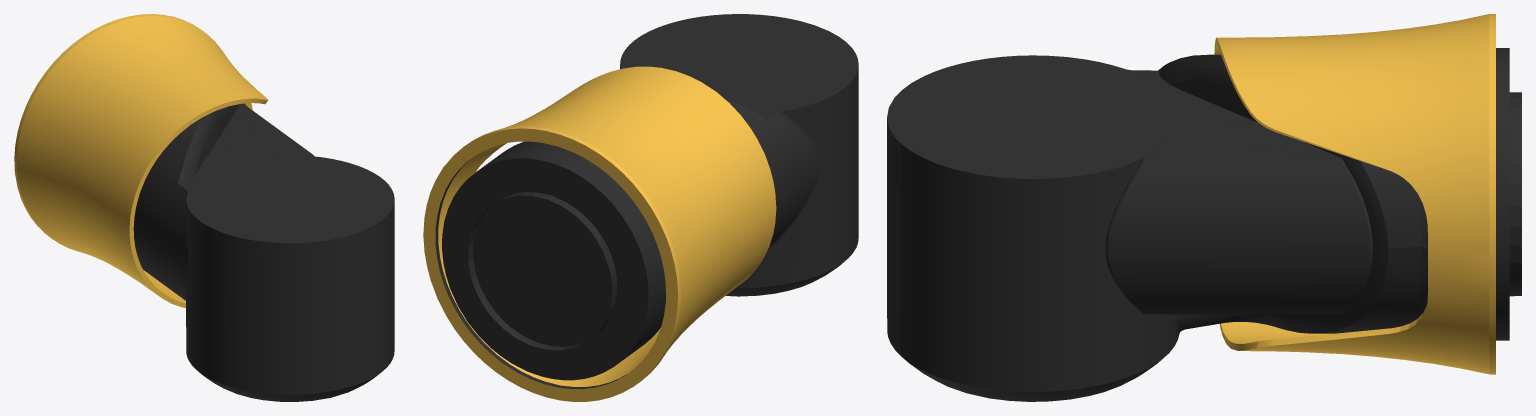
The model's file is armr3.obj.
3 renders of one model, left to right at view 1: azimuth 30°, elevation 25°; view 2: azimuth 150°, elevation 25°; view 3: azimuth 270°, elevation 25°, orthographic. The views are drawn at different scales.
Visible parts, largest first — view 1: arml3_005-mesh; view 2: arml3_005-mesh; view 3: arml3_005-mesh.
Boxes of the visible parts, left/top/right/bottom form: arml3_005-mesh: left=14, top=14, right=394, bottom=401; arml3_005-mesh: left=423, top=14, right=858, bottom=401; arml3_005-mesh: left=887, top=14, right=1521, bottom=401.
Size of the model in its own units: 0.1061 by 0.106 by 0.1866.
Materials: 1 (1 with a texture image).
